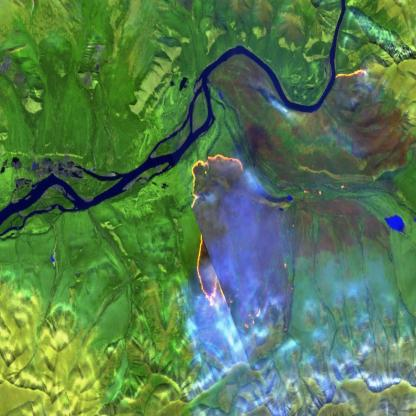fire: (187, 148, 246, 324), (333, 57, 371, 87)
